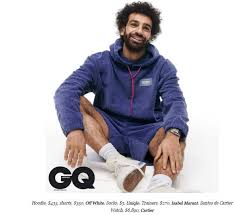middle_eastern_male: (124, 9, 155, 50)
